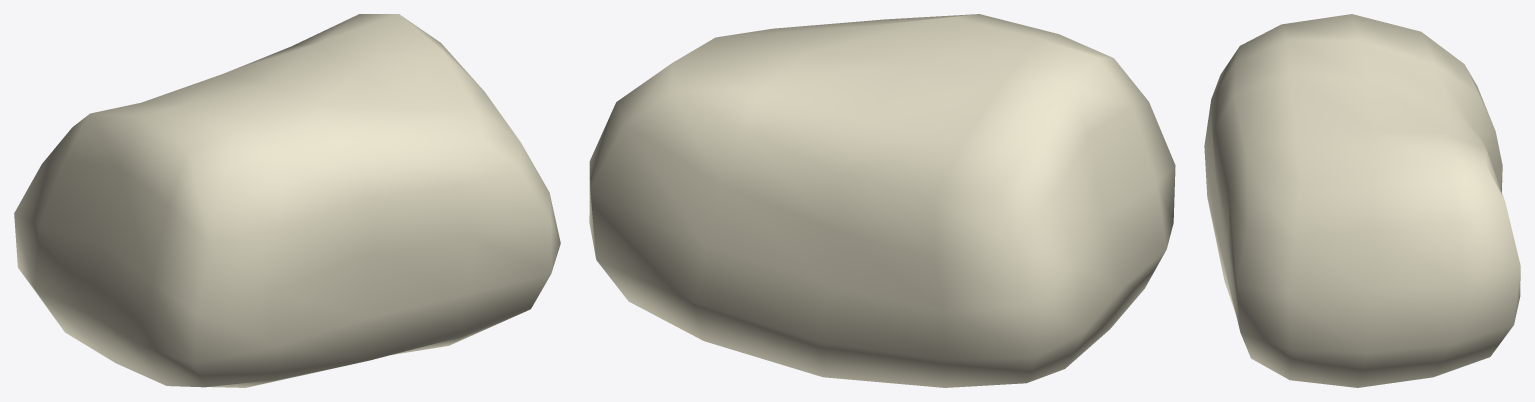
The model's file is ricecake2.fbx.
The picture shows the model from 3 angles, left to right: view 1: azimuth 30°, elevation 25°; view 2: azimuth 150°, elevation 25°; view 3: azimuth 270°, elevation 25°; orthographic projection. The views are drawn at different scales.
Visible parts, largest first — view 1: 떡2; view 2: 떡2; view 3: 떡2.
Boxes of the visible parts, x1,y1,x2,y2 form: 떡2: [14, 14, 560, 387]; 떡2: [589, 14, 1175, 387]; 떡2: [1204, 14, 1520, 387].
Bounding box in the file's own units: 203 × 113 × 137.
